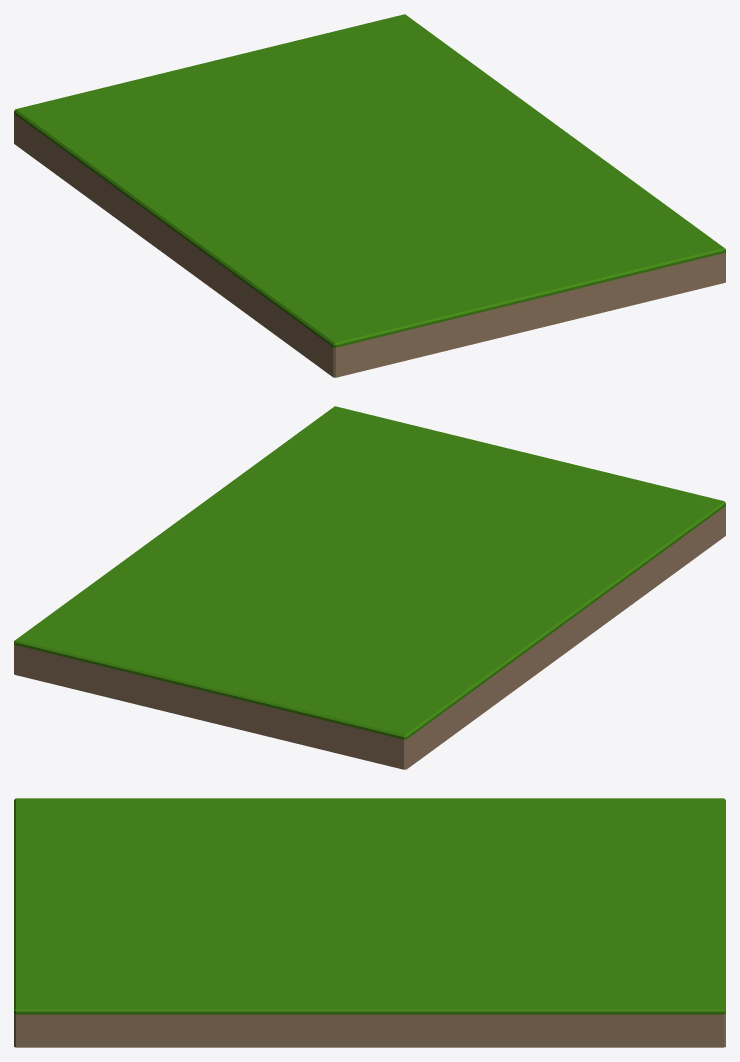
File: Muntanya 2.fbx
3 renders of one model, top to bottom at view 1: azimuth 30°, elevation 25°; view 2: azimuth 150°, elevation 25°; view 3: azimuth 270°, elevation 25°, orthographic. The views are drawn at different scales.
Parts seen in each view (by area): view 1: Cube.013; view 2: Cube.013; view 3: Cube.013.
Boxes of the visible parts, box(x1,y1,x2,y2) form: Cube.013: box(14, 14, 725, 377); Cube.013: box(14, 406, 725, 769); Cube.013: box(14, 798, 725, 1047).
Bounding box in the file's own units: 120 × 10 × 170.
